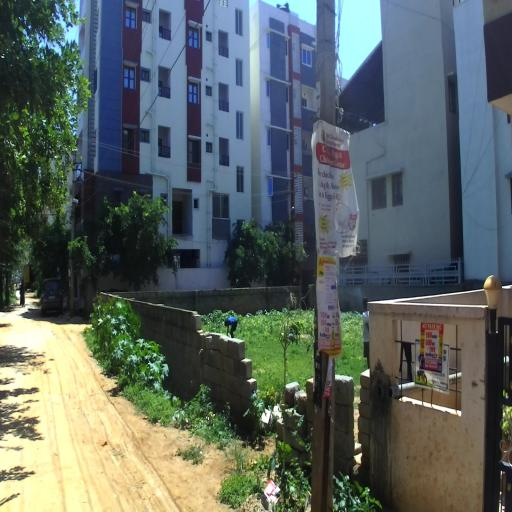street_light_0: (70, 198, 79, 220)
